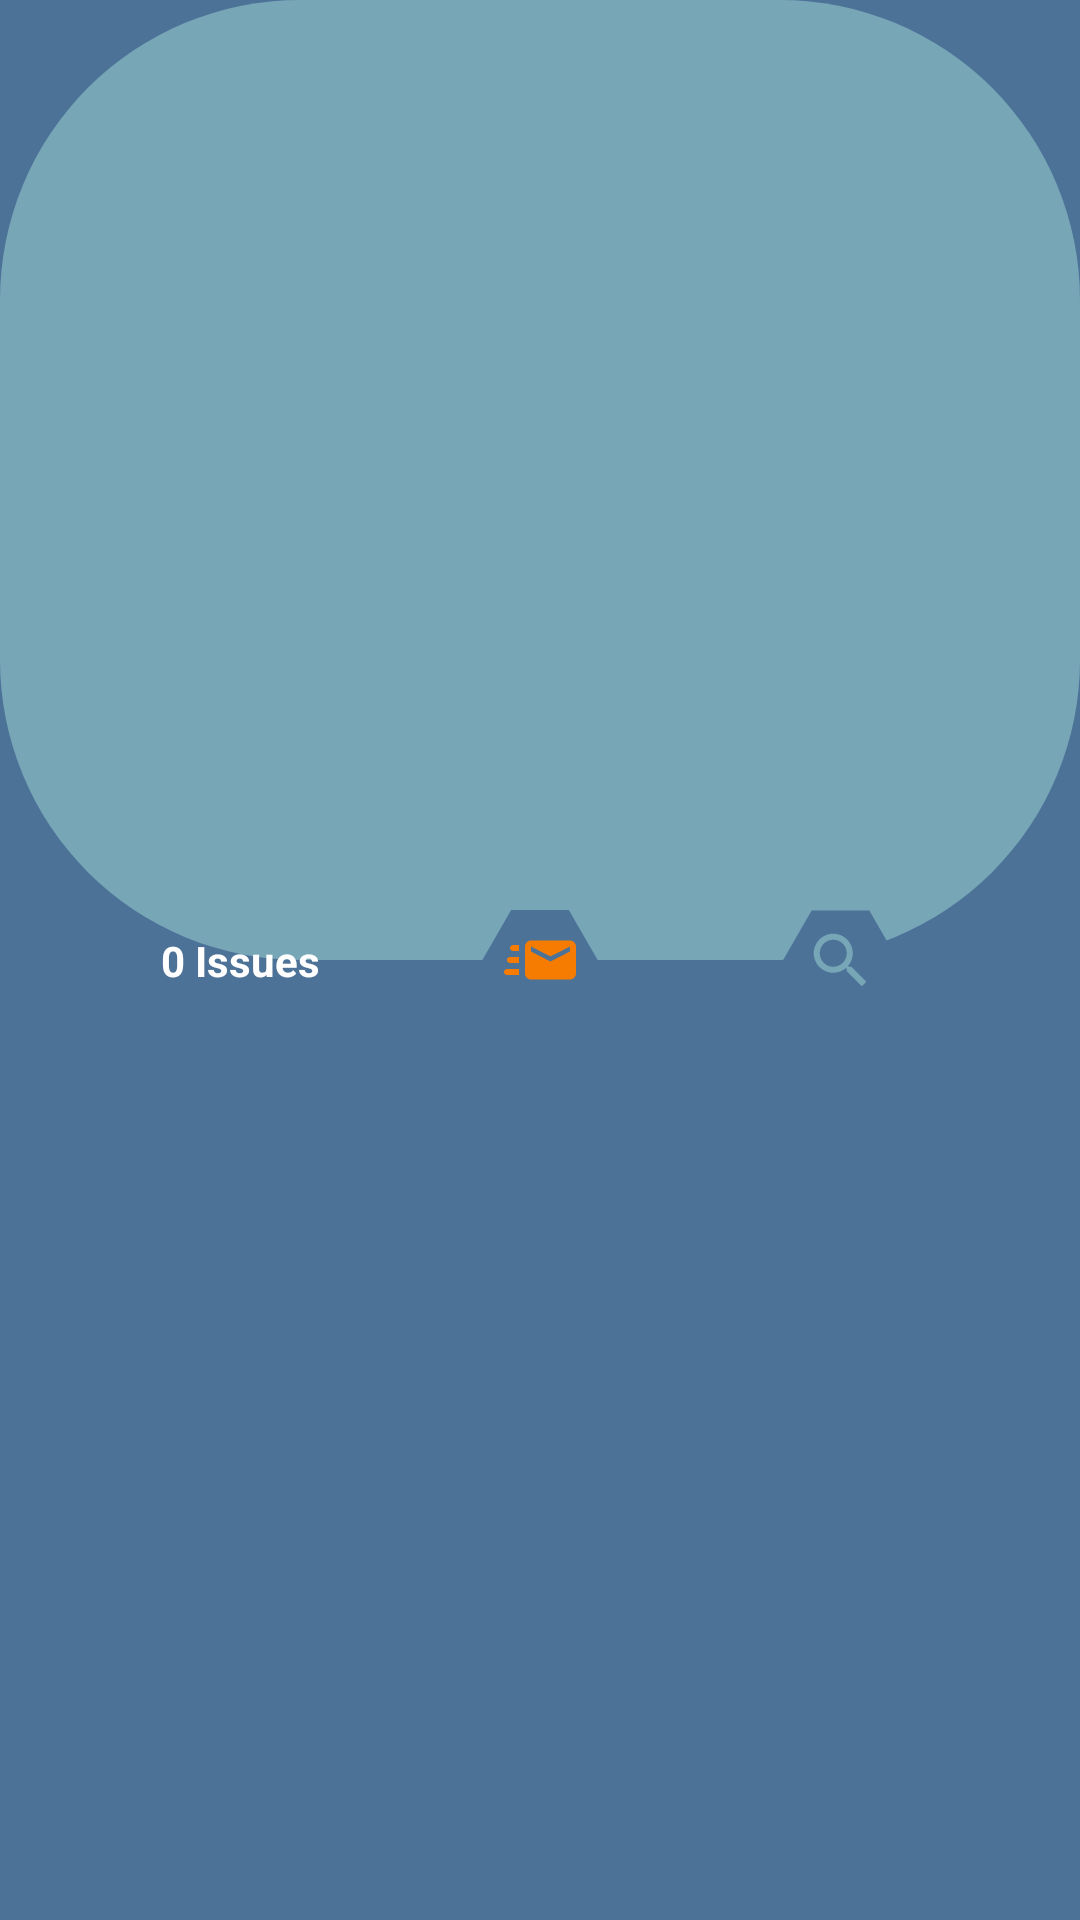

Where to tap for icons on this 1080x1920 app screen, as point (x, y):
search hexagonal: point (840, 960)
